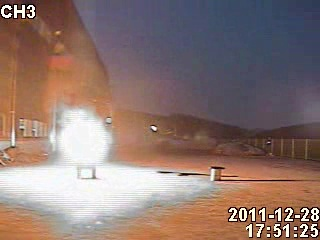fire: (57, 110, 111, 165)
